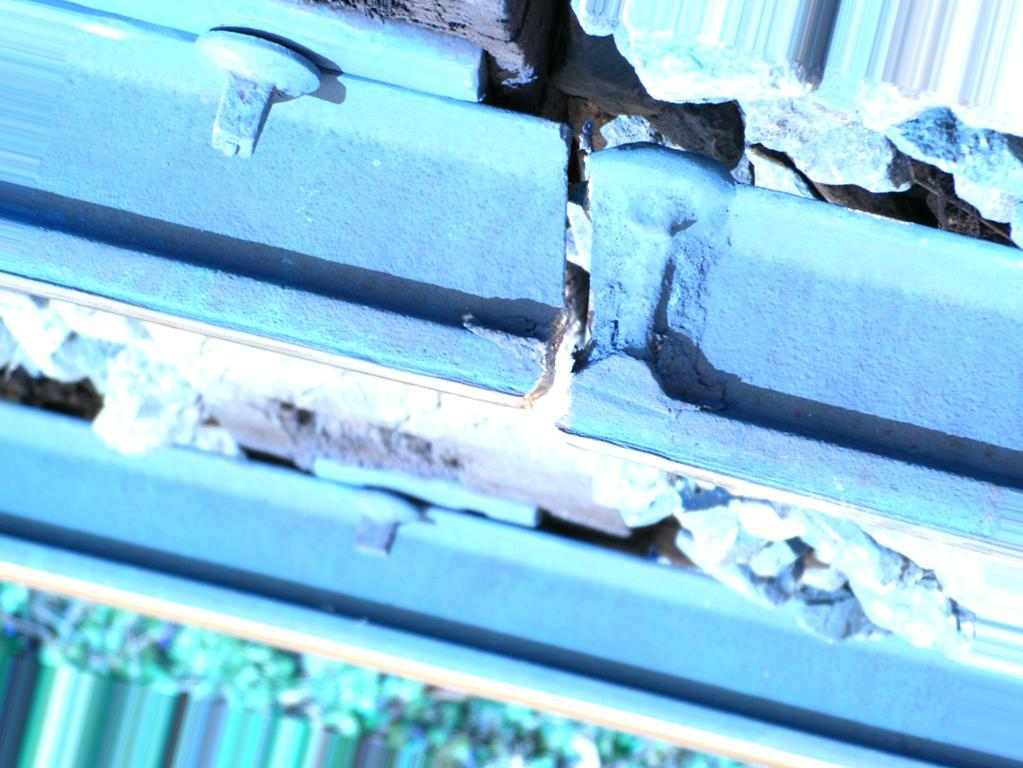railway-gap: (381, 90, 773, 509)
